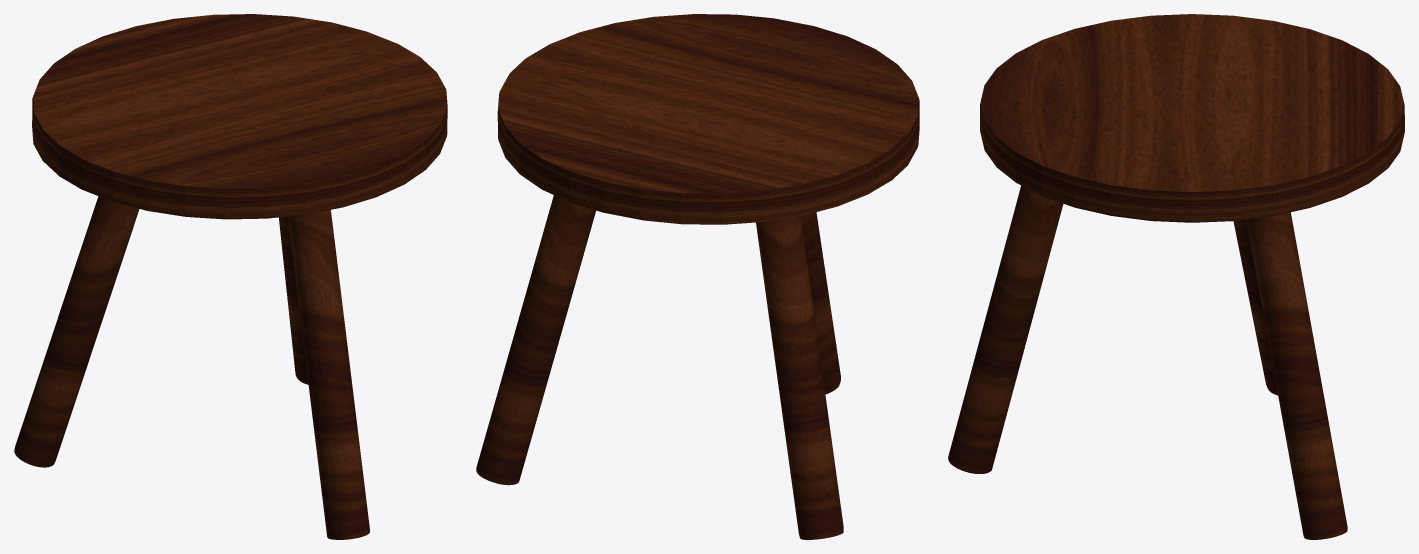
File: stool.obj
3 views of the same model, side by side, from view 1: azimuth 30°, elevation 25°; view 2: azimuth 150°, elevation 25°; view 3: azimuth 270°, elevation 25° (orthographic). The views are drawn at different scales.
Parts seen in each view (by area): view 1: Stool; view 2: Stool; view 3: Stool.
Boxes of the visible parts, box(x1,y1,x2,y2) form: Stool: box(14, 14, 447, 539); Stool: box(476, 14, 919, 539); Stool: box(948, 14, 1404, 539).
Bounding box in the file's own units: 2 × 1.91 × 2.15.
